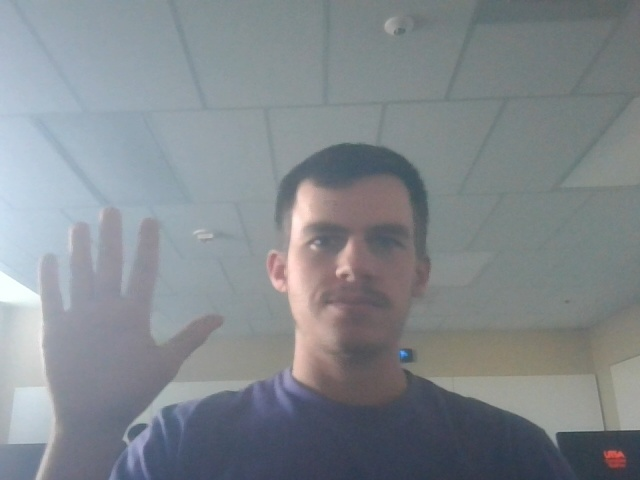hello: (26, 200, 229, 430)
